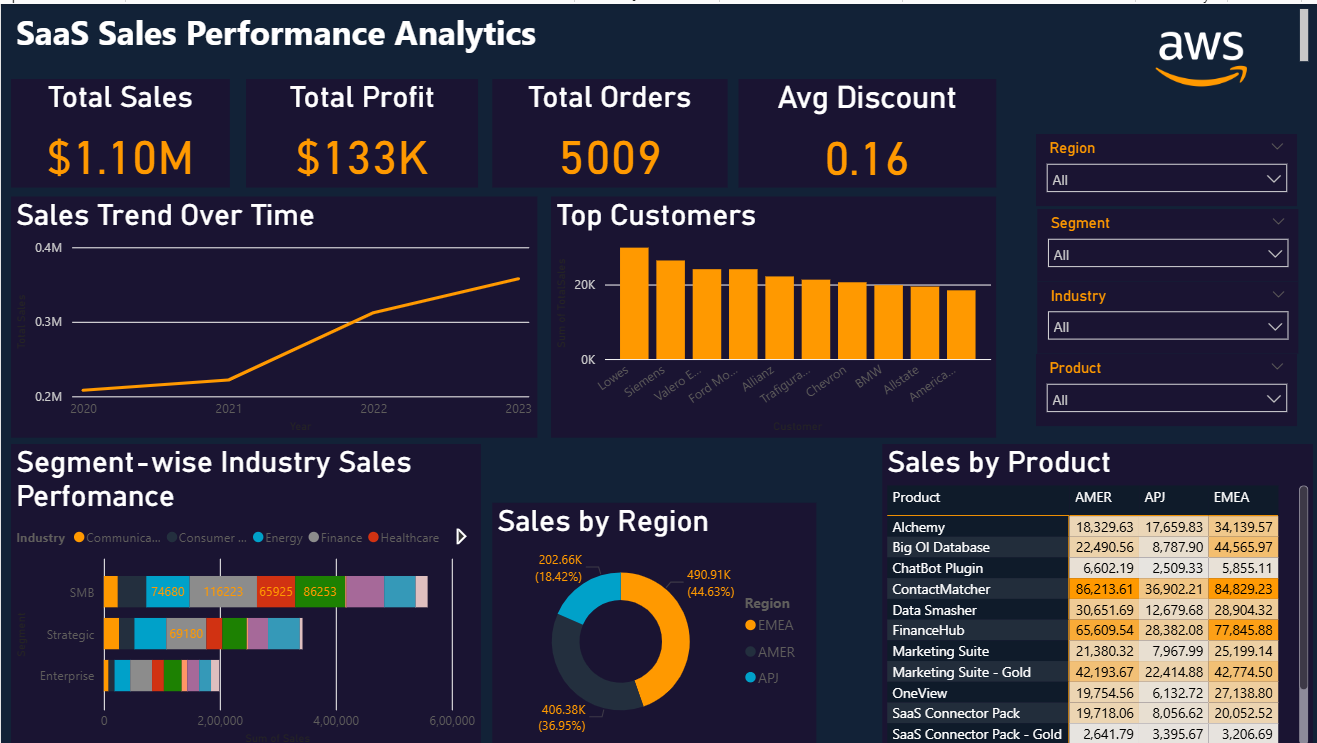

The page's visual inventory and layout, read from the dashboard file:
{"tool":"powerbi","page":{"name":"Page 1","canvas":[1280,720],"ordinal":0},"visuals":[{"type":"textbox","box":[9.7,0,1257.1,72.4],"z":0},{"type":"card","title":"Total Sales","fields":{"Values":["cleaned.Total Sales"]},"box":[9.7,72.4,211.1,105],"z":1000},{"type":"image","box":[1066.5,0,184.6,97.7],"z":2000},{"type":"card","title":"Total Profit","fields":{"Values":["cleaned.Total Profit"]},"box":[236.5,72.4,224.4,105],"z":3000},{"type":"card","title":"Total Orders","fields":{"Values":["cleaned.Order Count"]},"box":[474.1,72.4,226.8,105],"z":4000},{"type":"card","title":"Avg Discount","fields":{"Values":["Avg(cleaned.Discount)"]},"box":[711.8,72.4,248.5,105],"z":5000},{"type":"lineChart","title":"Sales Trend Over Time","fields":{"Y":["cleaned.Total Sales"],"Category":["cleaned.order_date.Variation.Date Hierarchy.Year"]},"box":[9.7,185.8,507.9,232.8],"z":6000},{"type":"donutChart","title":"Sales by Region","fields":{"Category":["cleaned.Region"],"Y":["Sum(cleaned.Sales)"]},"box":[474.1,481.4,312.5,232.8],"z":7000},{"type":"barChart","title":"Segment-wise Industry Sales Perfomance","fields":{"Category":["cleaned.Segment"],"Series":["cleaned.Industry"],"Y":["Sum(cleaned.Sales)"]},"box":[9.7,424.7,453.6,295.6],"z":8000},{"type":"clusteredColumnChart","title":"Top Customers","fields":{"Category":["Top10Customers.Customer"],"Y":["Sum(Top10Customers.TotalSales)"]},"box":[530.8,185.8,429.5,232.8],"z":9000},{"type":"pivotTable","title":"Sales by Product","fields":{"Rows":["cleaned.Product"],"Columns":["cleaned.Region"],"Values":["Sum(cleaned.Sales)"]},"box":[850.5,424.7,416.2,295.6],"z":10000},{"type":"slicer","title":"Avg Discount","fields":{"Values":["cleaned.Region"]},"box":[998.9,125.5,252.1,70],"z":10001},{"type":"slicer","title":"Avg Discount","fields":{"Values":["cleaned.Segment"]},"box":[1000.1,197.9,252.1,70],"z":10002},{"type":"slicer","title":"Avg Discount","fields":{"Values":["cleaned.Industry"]},"box":[1000.1,267.8,252.1,70],"z":10003},{"type":"slicer","title":"Avg Discount","fields":{"Values":["cleaned.Product"]},"box":[998.9,337.8,252.1,70],"z":10004}]}

Visuals, with their boxes in screenshot pixels (x1, y1, x2, y2), scaled from the page's 1280x720 canvas onto the 1317x743 screenshot:
textbox: x1=10, y1=0, x2=1303, y2=75
"Total Sales" card: x1=10, y1=75, x2=227, y2=183
image: x1=1097, y1=0, x2=1287, y2=101
"Total Profit" card: x1=243, y1=75, x2=474, y2=183
"Total Orders" card: x1=488, y1=75, x2=721, y2=183
"Avg Discount" card: x1=732, y1=75, x2=988, y2=183
"Sales Trend Over Time" lineChart: x1=10, y1=192, x2=533, y2=432
"Sales by Region" donutChart: x1=488, y1=497, x2=809, y2=737
"Segment-wise Industry Sales Perfomance" barChart: x1=10, y1=438, x2=477, y2=742
"Top Customers" clusteredColumnChart: x1=546, y1=192, x2=988, y2=432
"Sales by Product" pivotTable: x1=875, y1=438, x2=1303, y2=742
"Avg Discount" slicer: x1=1028, y1=130, x2=1287, y2=202
"Avg Discount" slicer: x1=1029, y1=204, x2=1288, y2=276
"Avg Discount" slicer: x1=1029, y1=276, x2=1288, y2=349
"Avg Discount" slicer: x1=1028, y1=349, x2=1287, y2=421
